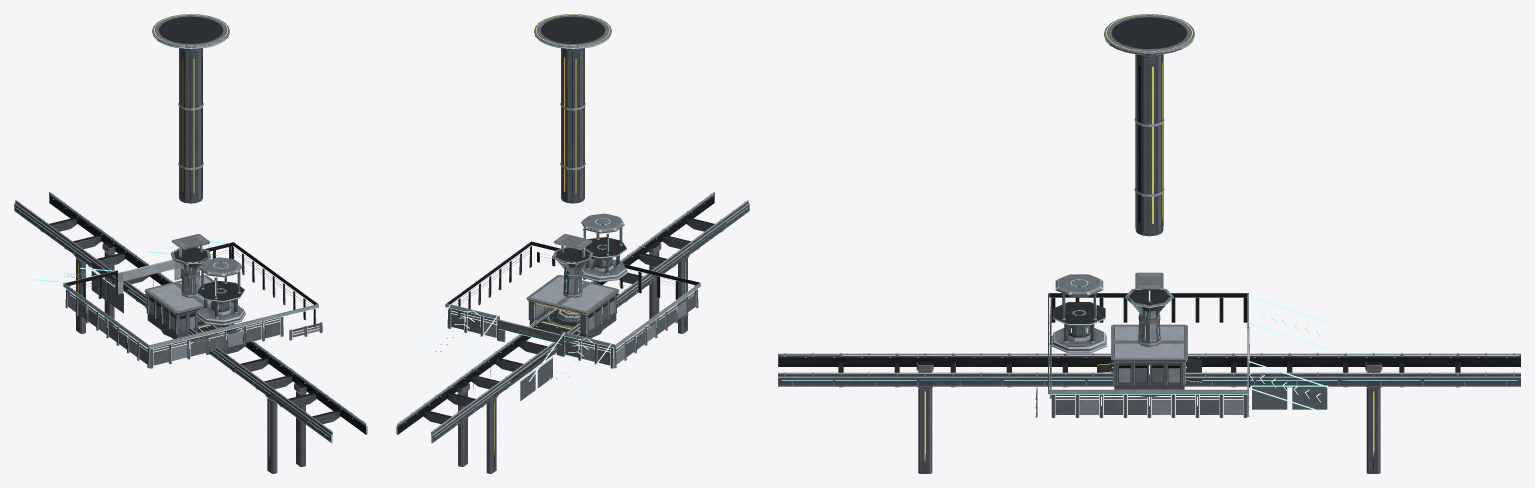
Rendered from models.glb.
3 views of the same model, side by side, from view 1: azimuth 30°, elevation 25°; view 2: azimuth 150°, elevation 25°; view 3: azimuth 270°, elevation 25° (orthographic). The views are drawn at different scales.
Visible parts, largest first — view 1: oh-base, oh-bridge, oh-crossing, oh-bunker, oh-lookout; view 2: oh-base, oh-bridge, oh-crossing, oh-bunker, oh-lookout; view 3: oh-bridge, oh-base, oh-crossing, oh-bunker, oh-lookout.
Part boxes in pixels (x1,y1,x2,y2): oh-base: (33, 241, 322, 368); oh-bridge: (14, 192, 367, 473); oh-crossing: (152, 14, 229, 203); oh-bunker: (144, 275, 234, 339); oh-lookout: (170, 234, 211, 321); oh-base: (415, 213, 700, 400); oh-bridge: (396, 192, 749, 473); oh-crossing: (534, 14, 611, 203); oh-bunker: (526, 275, 619, 340); oh-lookout: (552, 234, 593, 322); oh-bridge: (778, 353, 1520, 473); oh-base: (1035, 274, 1330, 417); oh-crossing: (1104, 14, 1194, 236); oh-bunker: (1097, 324, 1201, 389); oh-lookout: (1125, 272, 1173, 346).
Size of the model in its own units: 65.98 by 136 by 212.
1 material, 1 textured.
